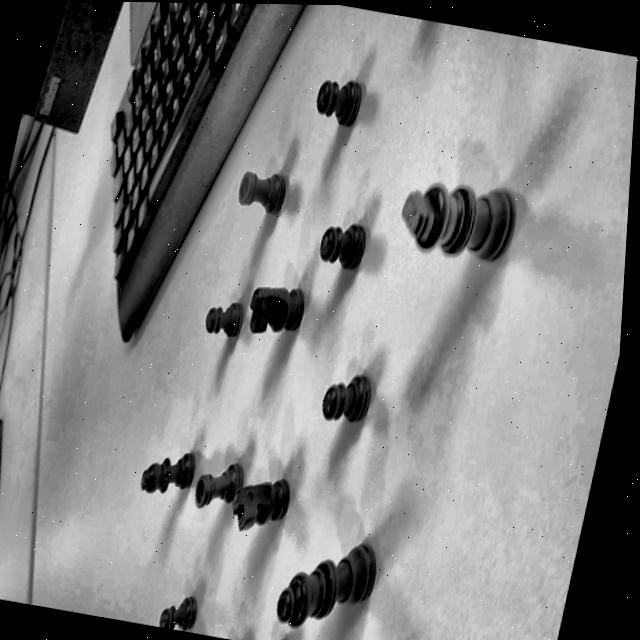black-bishop: (134, 433, 207, 512)
black-king: (384, 147, 537, 286)
black-knight: (224, 449, 305, 547), (241, 263, 318, 355)
black-pawn: (310, 344, 392, 451), (311, 201, 379, 289), (306, 60, 380, 135), (195, 286, 251, 355), (151, 572, 208, 634)
black-queen: (268, 513, 394, 640)
black-rook: (184, 438, 251, 534), (231, 152, 308, 221)
